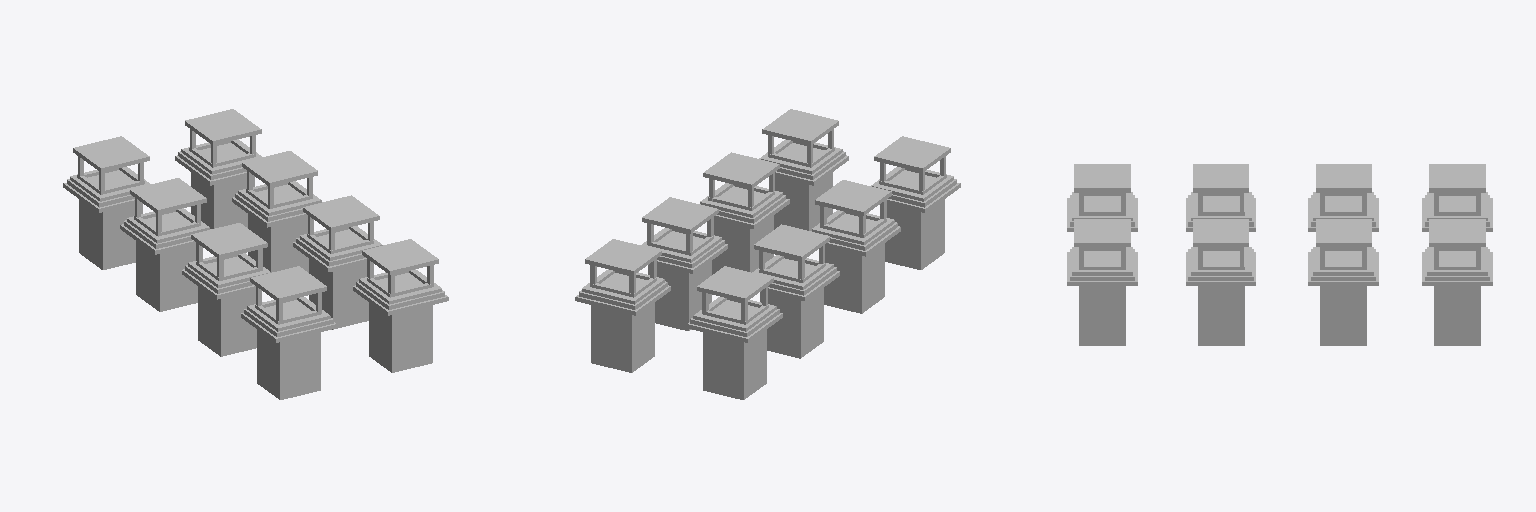
Rendered from SmallLampPostsTexture.obj.
The picture shows the model from 3 angles: view 1: azimuth 30°, elevation 25°; view 2: azimuth 150°, elevation 25°; view 3: azimuth 270°, elevation 25°; orthographic projection.
Visible parts, largest first — view 1: Small_Lamp_Posts pasted__pCube1 pasted__Small_Lamp_Post8, Small_Lamp_Post:pCube1 pasted__Small_Lamp_Post1 Small_Lamp_Posts, Small_Lamp_Posts pasted__pCube1 pasted__Small_Lamp_Post3, Small_Lamp_Posts pasted__pCube1 pasted__Small_Lamp_Post2, Small_Lamp_Posts pasted__pCube1 pasted__Small_Lamp_Post4, Small_Lamp_Posts pasted__pCube1 pasted__Small_Lamp_Post7, pasted__Small_Lamp_Post1 Small_Lamp_Posts Small_Lamp_Post:pCube1, Small_Lamp_Posts pasted__pCube1 pasted__Small_Lamp_Post6, Small_Lamp_Posts pasted__pCube1 pasted__Small_Lamp_Post5, Small_Lamp_Posts pasted__Small_Lamp_Post3 pasted__pCube3, Small_Lamp_Posts pasted__Small_Lamp_Post5 pasted__pCube3, pasted__Small_Lamp_Post1 Small_Lamp_Posts Small_Lamp_Post:pCube3 (+13 smaller); view 2: Small_Lamp_Posts pasted__pCube1 pasted__Small_Lamp_Post5, Small_Lamp_Posts pasted__pCube1 pasted__Small_Lamp_Post4, Small_Lamp_Posts pasted__pCube1 pasted__Small_Lamp_Post2, Small_Lamp_Post:pCube1 pasted__Small_Lamp_Post1 Small_Lamp_Posts, Small_Lamp_Posts pasted__pCube1 pasted__Small_Lamp_Post3, Small_Lamp_Posts pasted__pCube1 pasted__Small_Lamp_Post6, Small_Lamp_Posts pasted__pCube1 pasted__Small_Lamp_Post7, Small_Lamp_Posts pasted__pCube1 pasted__Small_Lamp_Post8, pasted__Small_Lamp_Post1 Small_Lamp_Posts Small_Lamp_Post:pCube1, Small_Lamp_Posts pasted__Small_Lamp_Post2 pasted__pCube3, Small_Lamp_Posts pasted__Small_Lamp_Post6 pasted__pCube3, Small_Lamp_Posts pasted__Small_Lamp_Post4 pasted__pCube3 (+14 smaller); view 3: Small_Lamp_Posts pasted__pCube1 pasted__Small_Lamp_Post5, Small_Lamp_Posts pasted__pCube1 pasted__Small_Lamp_Post6, Small_Lamp_Posts pasted__pCube1 pasted__Small_Lamp_Post7, Small_Lamp_Posts pasted__pCube1 pasted__Small_Lamp_Post8, pasted__Small_Lamp_Post1 Small_Lamp_Posts Small_Lamp_Post:pCube3, Small_Lamp_Posts pasted__Small_Lamp_Post4 pasted__pCube3, Small_Lamp_Posts pasted__Small_Lamp_Post2 pasted__pCube3, Small_Lamp_Posts pasted__Small_Lamp_Post3 pasted__pCube3, Small_Lamp_Posts pasted__Small_Lamp_Post5 pasted__pCube3, Small_Lamp_Posts pasted__Small_Lamp_Post8 pasted__pCube3, Small_Lamp_Posts pasted__Small_Lamp_Post6 pasted__pCube3, Small_Lamp_Posts pasted__Small_Lamp_Post7 pasted__pCube3 (+11 smaller).
Boxes of the visible parts, x1=… form: Small_Lamp_Posts pasted__pCube1 pasted__Small_Lamp_Post8: x1=369, y1=303, x2=432, y2=372; Small_Lamp_Post:pCube1 pasted__Small_Lamp_Post1 Small_Lamp_Posts: x1=257, y1=330, x2=320, y2=399; Small_Lamp_Posts pasted__pCube1 pasted__Small_Lamp_Post3: x1=136, y1=241, x2=197, y2=311; Small_Lamp_Posts pasted__pCube1 pasted__Small_Lamp_Post2: x1=198, y1=286, x2=256, y2=356; Small_Lamp_Posts pasted__pCube1 pasted__Small_Lamp_Post4: x1=79, y1=199, x2=142, y2=269; Small_Lamp_Posts pasted__pCube1 pasted__Small_Lamp_Post7: x1=309, y1=259, x2=368, y2=329; pasted__Small_Lamp_Post1 Small_Lamp_Posts Small_Lamp_Post:pCube1: x1=241, y1=287, x2=336, y2=342; Small_Lamp_Posts pasted__pCube1 pasted__Small_Lamp_Post6: x1=248, y1=214, x2=308, y2=272; Small_Lamp_Posts pasted__pCube1 pasted__Small_Lamp_Post5: x1=191, y1=172, x2=254, y2=228; Small_Lamp_Posts pasted__Small_Lamp_Post3 pasted__pCube3: x1=130, y1=178, x2=206, y2=213; Small_Lamp_Posts pasted__Small_Lamp_Post5 pasted__pCube3: x1=185, y1=109, x2=261, y2=144; pasted__Small_Lamp_Post1 Small_Lamp_Posts Small_Lamp_Post:pCube3: x1=250, y1=266, x2=326, y2=302; Small_Lamp_Posts pasted__pCube1 pasted__Small_Lamp_Post5: x1=591, y1=303, x2=654, y2=372; Small_Lamp_Posts pasted__pCube1 pasted__Small_Lamp_Post4: x1=703, y1=330, x2=766, y2=399; Small_Lamp_Posts pasted__pCube1 pasted__Small_Lamp_Post2: x1=824, y1=243, x2=884, y2=313; Small_Lamp_Post:pCube1 pasted__Small_Lamp_Post1 Small_Lamp_Posts: x1=885, y1=199, x2=944, y2=269; Small_Lamp_Posts pasted__pCube1 pasted__Small_Lamp_Post3: x1=760, y1=288, x2=823, y2=358; Small_Lamp_Posts pasted__pCube1 pasted__Small_Lamp_Post6: x1=648, y1=261, x2=711, y2=330; Small_Lamp_Posts pasted__pCube1 pasted__Small_Lamp_Post7: x1=712, y1=216, x2=773, y2=274; Small_Lamp_Posts pasted__pCube1 pasted__Small_Lamp_Post8: x1=774, y1=172, x2=832, y2=230; pasted__Small_Lamp_Post1 Small_Lamp_Posts Small_Lamp_Post:pCube1: x1=871, y1=162, x2=960, y2=212; Small_Lamp_Posts pasted__Small_Lamp_Post2 pasted__pCube3: x1=815, y1=180, x2=891, y2=215; Small_Lamp_Posts pasted__Small_Lamp_Post6 pasted__pCube3: x1=642, y1=197, x2=718, y2=233; Small_Lamp_Posts pasted__Small_Lamp_Post4 pasted__pCube3: x1=697, y1=266, x2=773, y2=302; Small_Lamp_Posts pasted__pCube1 pasted__Small_Lamp_Post5: x1=1434, y1=286, x2=1480, y2=345; Small_Lamp_Posts pasted__pCube1 pasted__Small_Lamp_Post6: x1=1320, y1=286, x2=1366, y2=345; Small_Lamp_Posts pasted__pCube1 pasted__Small_Lamp_Post7: x1=1198, y1=286, x2=1244, y2=345; Small_Lamp_Posts pasted__pCube1 pasted__Small_Lamp_Post8: x1=1079, y1=286, x2=1125, y2=345; pasted__Small_Lamp_Post1 Small_Lamp_Posts Small_Lamp_Post:pCube3: x1=1074, y1=164, x2=1130, y2=192; Small_Lamp_Posts pasted__Small_Lamp_Post4 pasted__pCube3: x1=1429, y1=164, x2=1485, y2=192; Small_Lamp_Posts pasted__Small_Lamp_Post2 pasted__pCube3: x1=1193, y1=164, x2=1248, y2=192; Small_Lamp_Posts pasted__Small_Lamp_Post3 pasted__pCube3: x1=1316, y1=164, x2=1371, y2=192; Small_Lamp_Posts pasted__Small_Lamp_Post5 pasted__pCube3: x1=1429, y1=219, x2=1485, y2=246; Small_Lamp_Posts pasted__Small_Lamp_Post8 pasted__pCube3: x1=1074, y1=219, x2=1130, y2=246; Small_Lamp_Posts pasted__Small_Lamp_Post6 pasted__pCube3: x1=1316, y1=219, x2=1371, y2=246; Small_Lamp_Posts pasted__Small_Lamp_Post7 pasted__pCube3: x1=1193, y1=219, x2=1248, y2=246.
Bounding box in the file's own units: 2.13 × 1.23 × 4.54.